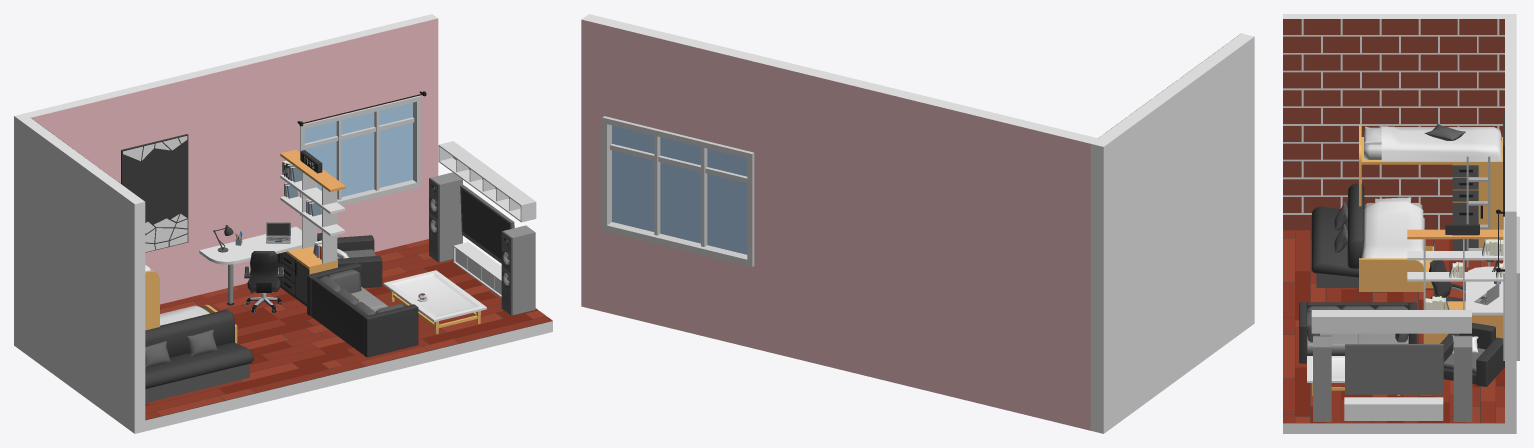
File: room_22.glb
3 views of the same model, side by side, from view 1: azimuth 30°, elevation 25°; view 2: azimuth 150°, elevation 25°; view 3: azimuth 270°, elevation 25° (orthographic). The views are drawn at different scales.
Parts seen in each view (by area): view 1: Walls_006.079, Walls_155.001, tv_wall_019.002, floor_001.033, window_007.002, Walls_155.003, floor_001.034, office_table_018.001, Walls_011.020, sofa_005.005, sofa_015.001, picture_006.006 (+9 smaller); view 2: Walls_155.001, Walls_006.079, window_007.002, Walls_155.003, Walls_155.004, Walls_155.002; view 3: wall_005.001, tv_wall_019.002, bed_006.001, Walls_006.079, floor_001.033, floor_001.034, office_table_018.001, sofa_015.001, Walls_011.020, Walls_155.002, sofa_005.005, armchair_002.004 (+12 smaller).
Boxes of the visible parts, x1,y1,x2,y2 form: Walls_006.079: (14, 113, 145, 433); Walls_155.001: (25, 47, 302, 304); tv_wall_019.002: (429, 141, 536, 315); floor_001.033: (235, 239, 552, 370); window_007.002: (300, 95, 420, 215); Walls_155.003: (296, 19, 417, 123); floor_001.034: (145, 286, 348, 419); office_table_018.001: (199, 149, 345, 306); Walls_011.020: (145, 243, 552, 431); sofa_005.005: (307, 263, 418, 357); sofa_015.001: (145, 309, 253, 402); picture_006.006: (121, 134, 188, 252); Walls_155.001: (751, 55, 1097, 430); Walls_006.079: (1090, 33, 1254, 433); window_007.002: (602, 116, 754, 266); Walls_155.003: (607, 20, 758, 151); Walls_155.004: (607, 232, 751, 347); Walls_155.002: (581, 14, 614, 312); wall_005.001: (1283, 19, 1504, 230); tv_wall_019.002: (1311, 310, 1472, 421); bed_006.001: (1359, 124, 1502, 291); Walls_006.079: (1283, 14, 1516, 229); floor_001.033: (1283, 326, 1504, 422); floor_001.034: (1283, 230, 1503, 326); office_table_018.001: (1407, 229, 1503, 343); sofa_015.001: (1311, 183, 1364, 287); Walls_011.020: (1283, 231, 1504, 433); Walls_155.002: (1505, 201, 1516, 433); sofa_005.005: (1299, 302, 1416, 363); armchair_002.004: (1440, 322, 1504, 386).
Bounding box in the file's own units: 8 × 4.2 × 4.05.
1 material, 1 textured.
